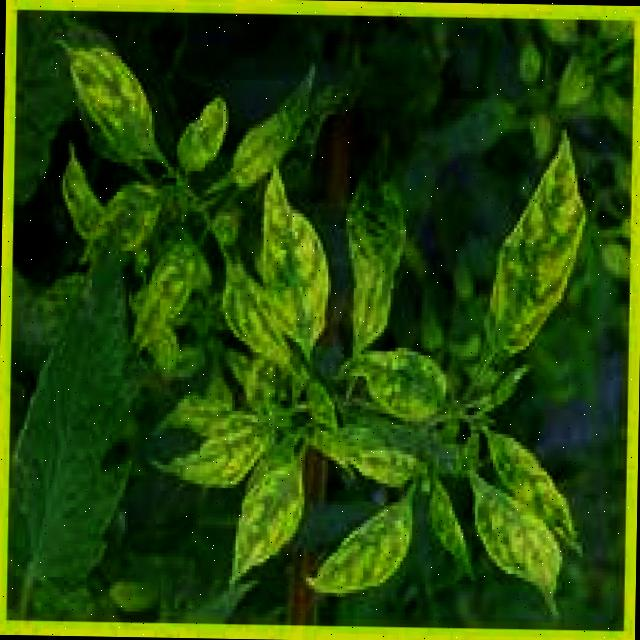yellow: (44, 56, 602, 621)
